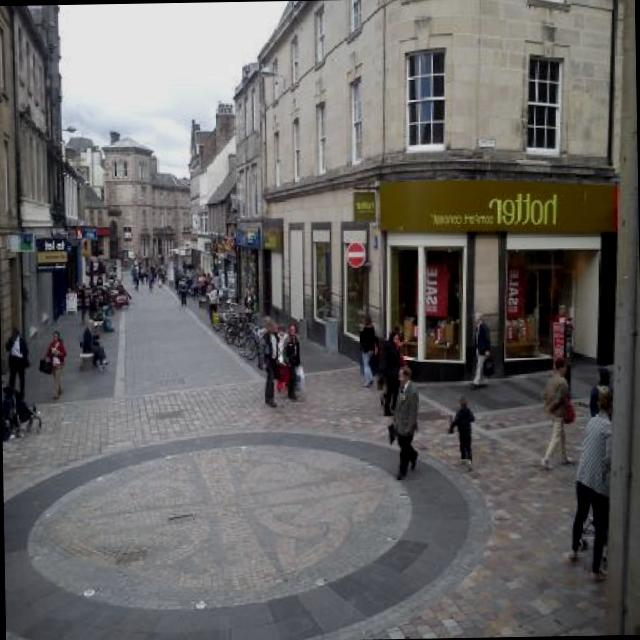Person: (568, 367, 624, 592), (358, 311, 422, 481), (541, 355, 577, 468), (175, 258, 222, 306), (448, 392, 476, 469), (259, 318, 282, 409), (280, 320, 304, 402), (4, 326, 28, 402), (468, 309, 491, 386), (44, 330, 68, 398), (81, 316, 109, 370), (128, 256, 166, 295), (587, 362, 611, 417), (273, 324, 290, 394), (242, 285, 256, 311)
